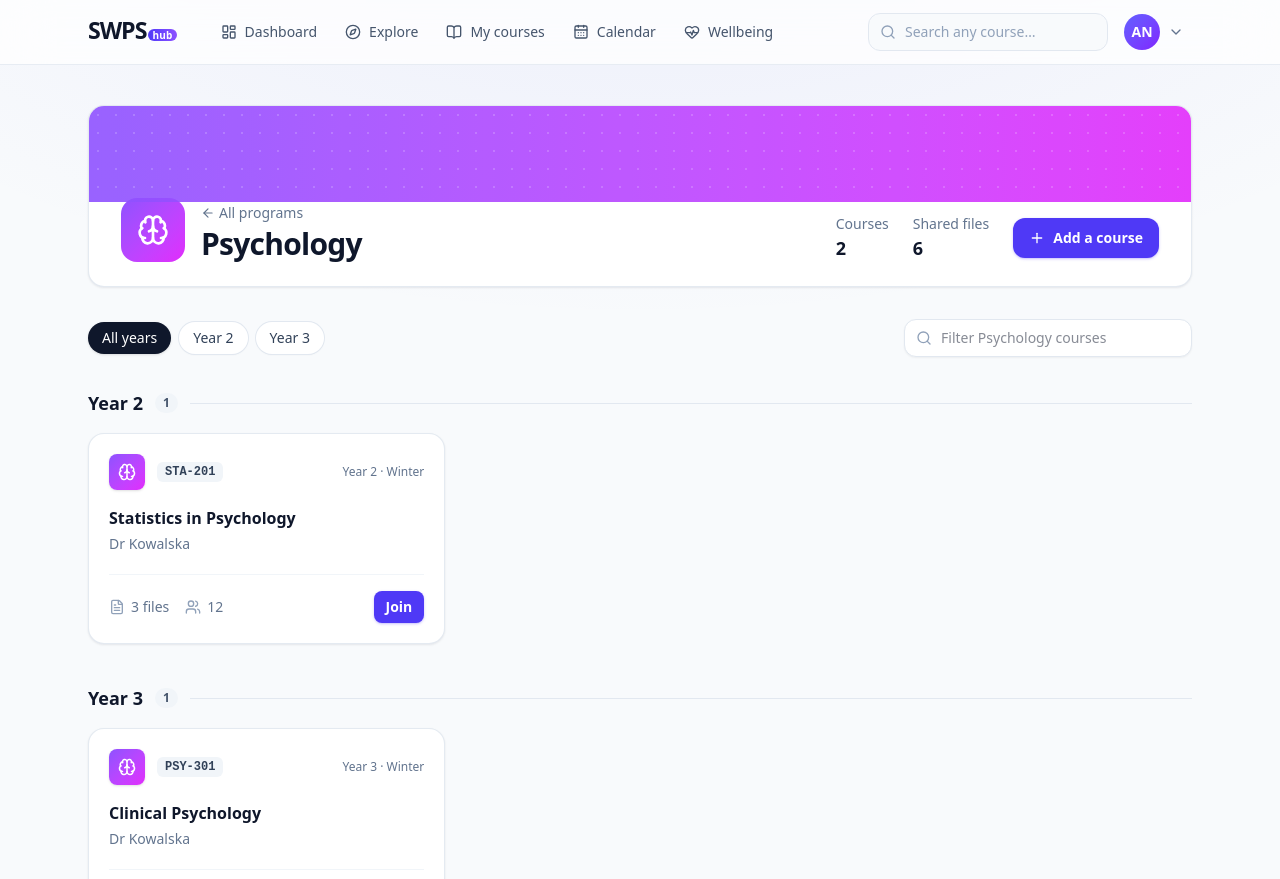
courses › groups a program’s courses by year and lets students join them
Expected: the link "Statistics in Psychology" is shown, [109,507,296,529]
Expected: the link "Clinical Psychology" is shown, [109,802,261,824]
Click the button with aria-label "Join Statistics in Psychology". click: (399, 607)
box: [374,591,424,623]
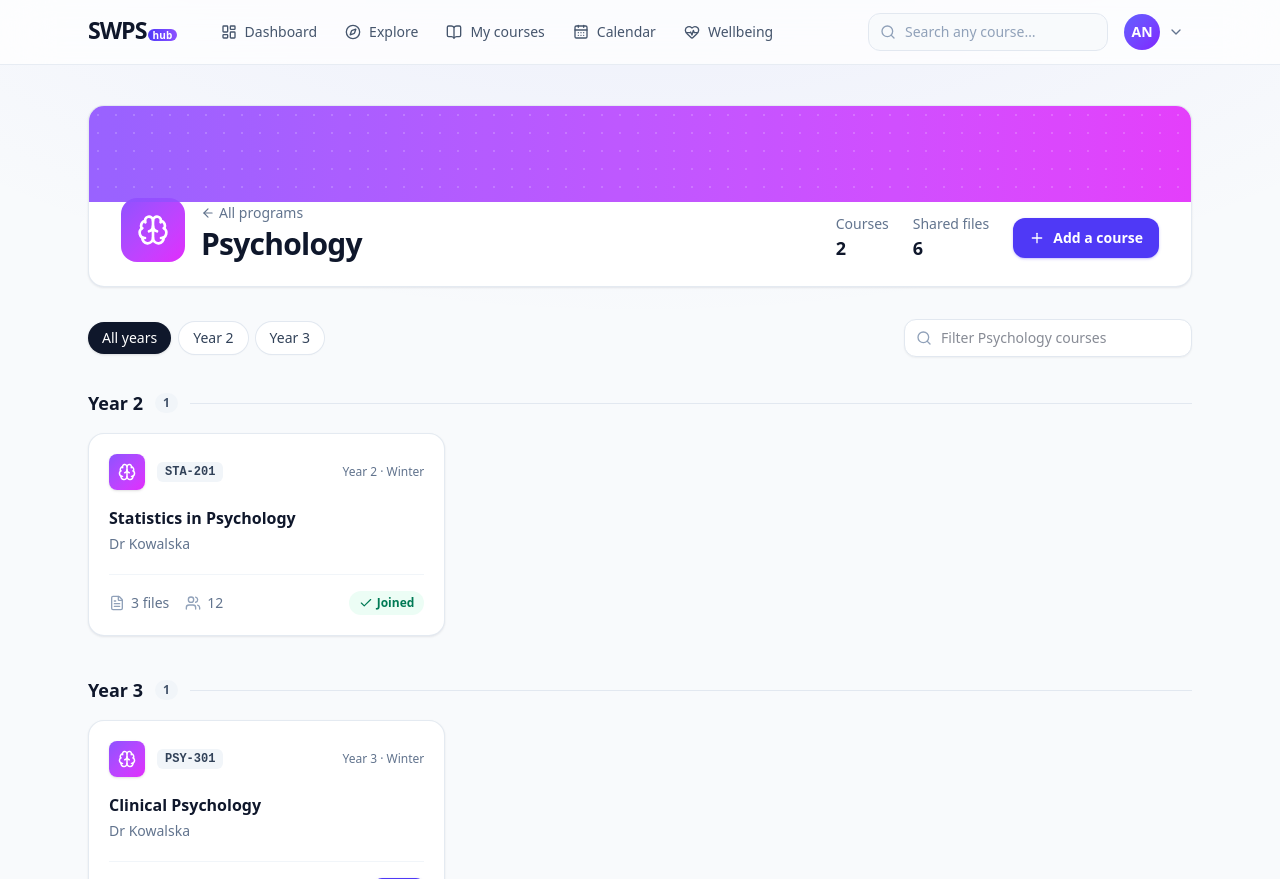
Result: the text "Joined" is shown at [349,591,424,615]
